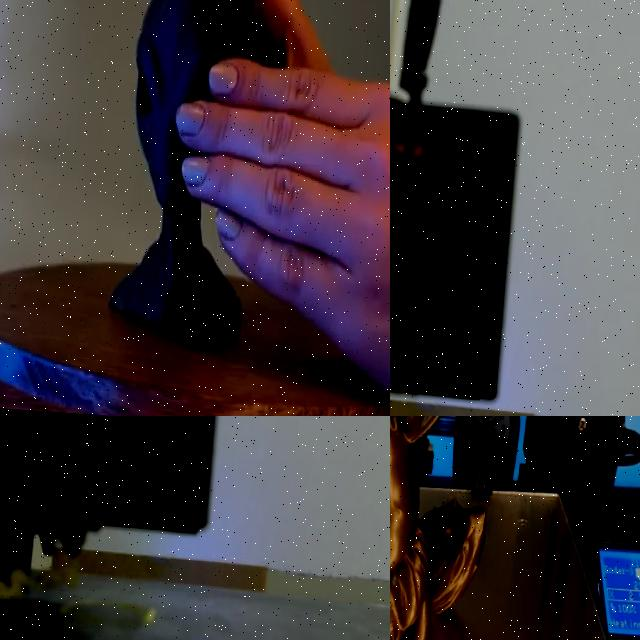spaghetti: (0, 549, 77, 601)
